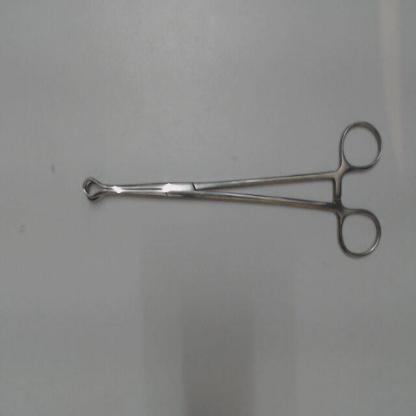8 Babcock Tissue Forceps: (76, 112, 386, 267)
